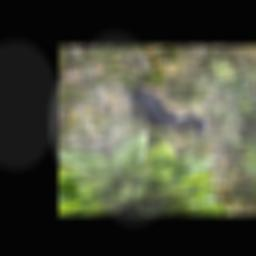Crow: (100, 77, 216, 149)
